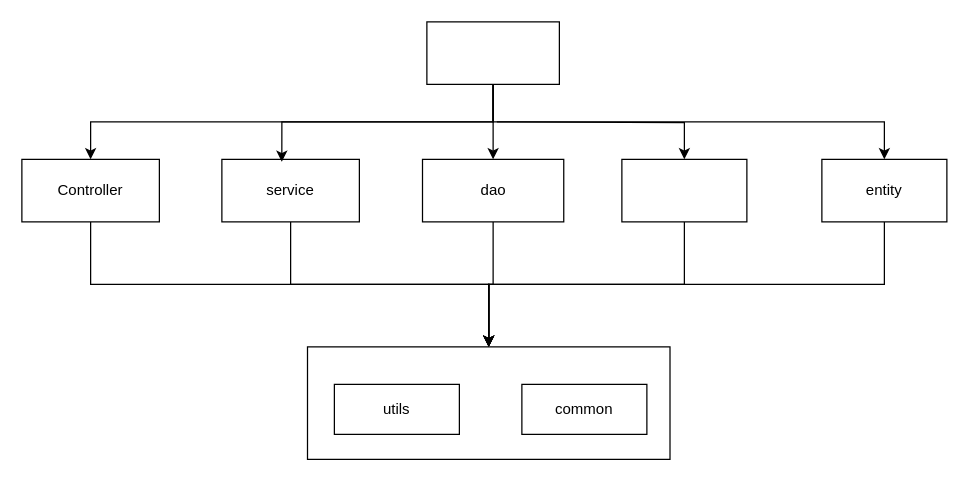
Some shapes in this 969 by 481 pixel diagram are drawn without their labels. Here are the shapes that lost their labels. From the top down, the centre of each, then its label:
At point 492,52: "iwtr".
At point 684,190: "jobs".
